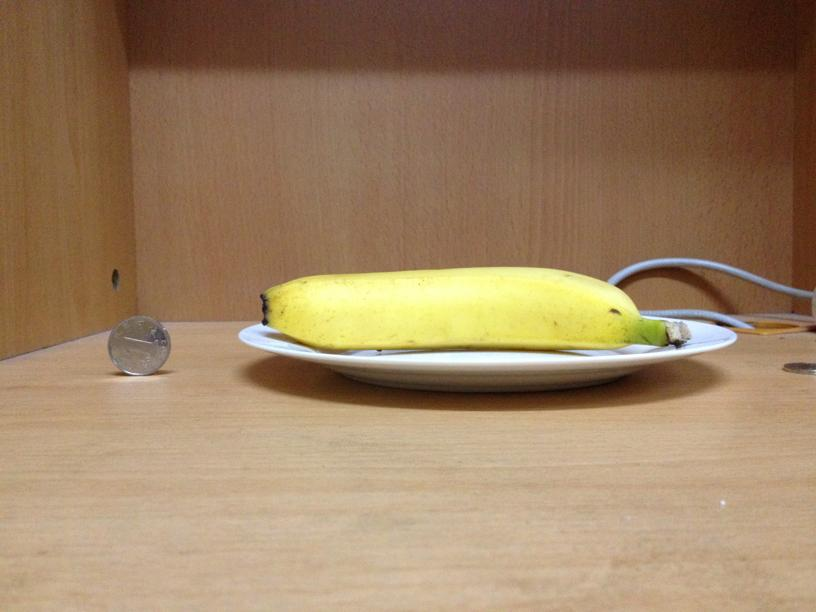banana: (254, 268, 660, 352)
coin: (106, 314, 171, 376)
